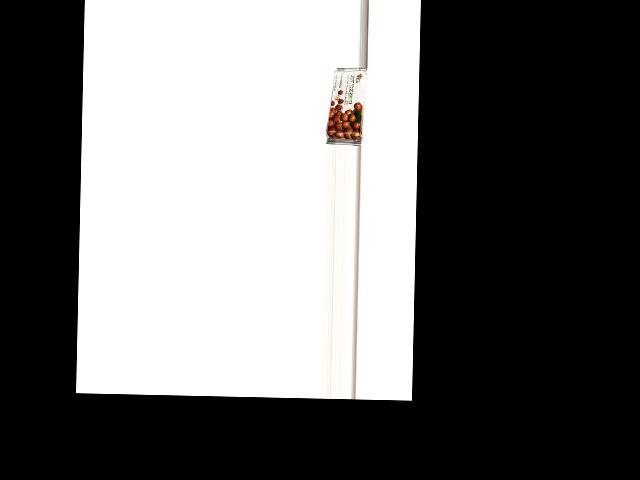chocolate: (325, 66, 364, 144)
